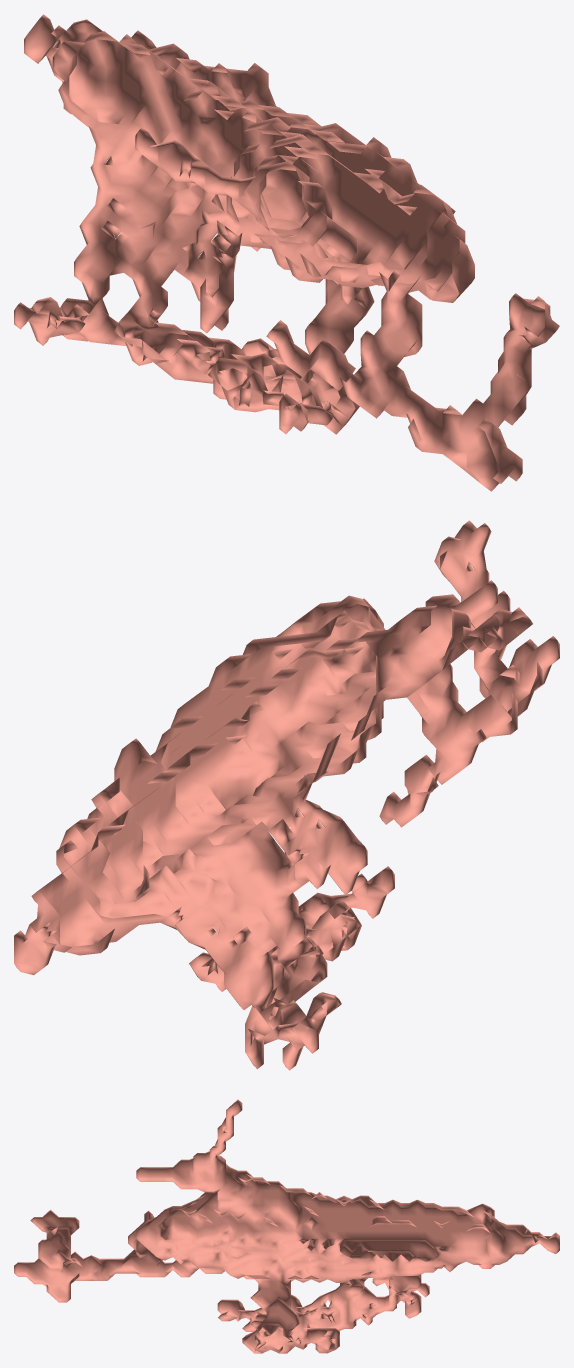
Rendered from osteocyte_17.glb.
3 views of the same model, one above another, from view 1: azimuth 30°, elevation 25°; view 2: azimuth 150°, elevation 25°; view 3: azimuth 270°, elevation 25° (orthographic). The views are drawn at different scales.
Parts seen in each view (by area): view 1: osteocyte_17; view 2: osteocyte_17; view 3: osteocyte_17.
Part boxes in pixels (left/top/right/bottom): osteocyte_17: left=14, top=14, right=559, bottom=491; osteocyte_17: left=14, top=520, right=559, bottom=1070; osteocyte_17: left=14, top=1099, right=559, bottom=1353.
Bounding box in the file's own units: 10.11 × 13 × 32.26.
